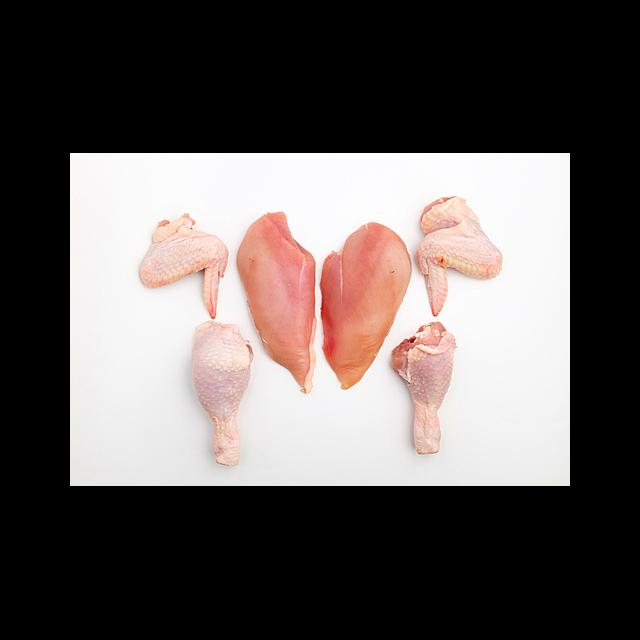chicken: (319, 221, 413, 390), (235, 211, 317, 395), (416, 194, 504, 316), (139, 213, 229, 320), (191, 321, 254, 467), (390, 320, 457, 456)
